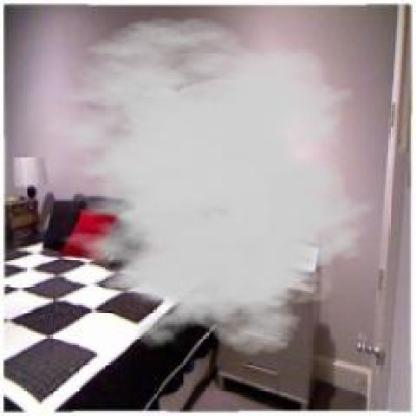Smoke: (25, 17, 381, 356)
